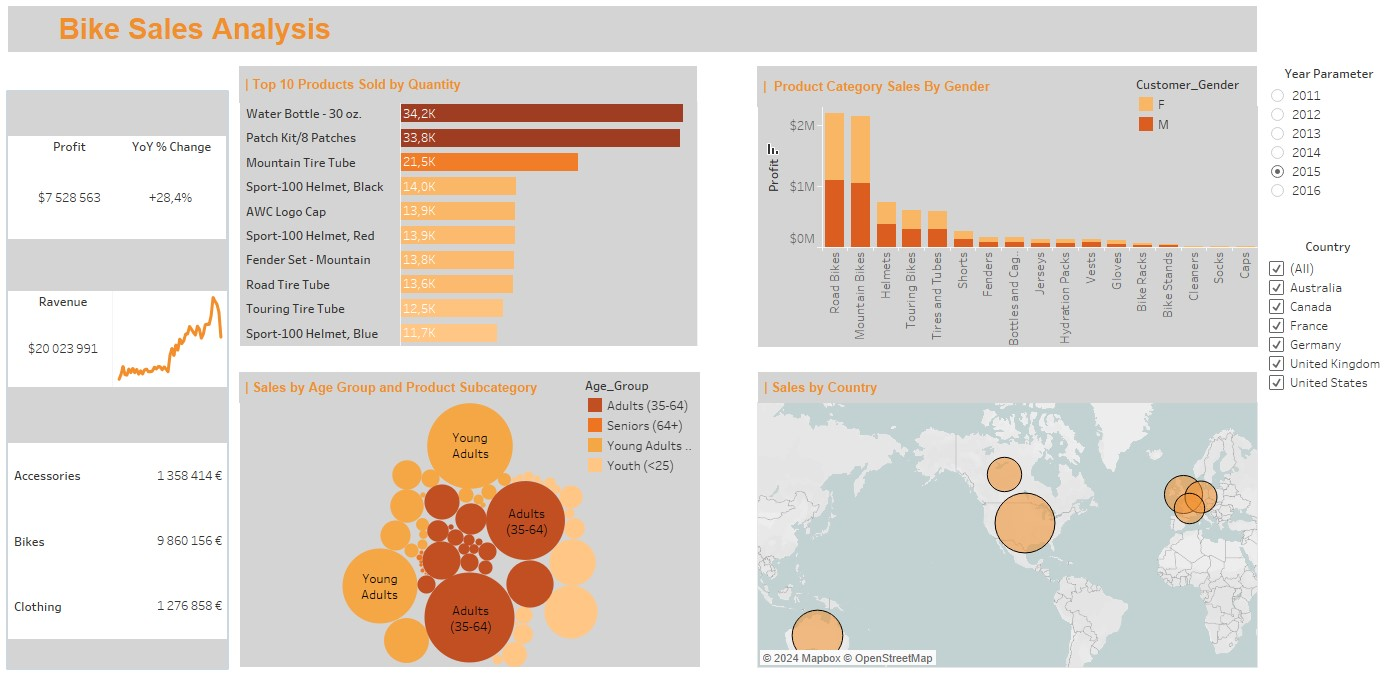

The dashboard page shown, as its layout file describes it:
{"tool":"tableau","page":{"name":"Sales Dashboard","canvas":[1400,750],"ordinal":0},"visuals":[{"type":"title","box":[8,8,1257,54]},{"type":"blank","box":[8,62,1257,680]},{"type":"parameter","param":"[Parameters].[Parameter 1]","box":[1269,71,128,137]},{"type":"text","box":[243,72,458,37]},{"type":"text","box":[761,72,500,41]},{"type":"legend","title":"Sub Category Bar chart","param":"[federated.0aqwxdi1nw8yje1g7g7n61i7v5s8].[none:Customer_Gender:nk]","box":[1140,82,112,63]},{"type":"worksheet","title":"Top 10 products","mark":"Bar","rows":["Product"],"box":[244.1,107.1,457.9,245.3]},{"type":"worksheet","title":"Sub Category Bar chart","mark":"Automatic","rows":["Profit"],"cols":["Sub_Category"],"box":[762,112,500,241]},{"type":"worksheet","title":"Profit Card","mark":"Automatic","cols":["Calculation_1117737185403191298"],"box":[11,142,125,103]},{"type":"worksheet","title":"YoY % change","mark":"Automatic","cols":["Calculation_1117737185411420168"],"box":[121,142,109,103]},{"type":"filter","title":"Age group bubble chart","param":"[federated.0aqwxdi1nw8yje1g7g7n61i7v5s8].[none:Country:nk]","box":[1267,244,130,156]},{"type":"worksheet","title":"Ravenue Card","mark":"Automatic","cols":["Calculation_1117737185413152777"],"box":[12,297,110,96]},{"type":"worksheet","title":"Ravenue line chart","mark":"Automatic","rows":["Revenue"],"cols":["Date"],"box":[116,297,115,96]},{"type":"text","box":[243.3,377.5,461.1,31.8]},{"type":"text","box":[762,378,499,31]},{"type":"legend","title":"Age group bubble chart","param":"[federated.0aqwxdi1nw8yje1g7g7n61i7v5s8].[none:Age_Group:nk]","box":[589,383,112,98]},{"type":"worksheet","title":"Age group bubble chart","mark":"Circle","box":[244.1,407.6,460.3,265.3]},{"type":"worksheet","title":"Map","mark":"Automatic","box":[761,408,501,266]},{"type":"worksheet","title":"Cost Cards","mark":"Automatic","rows":["Product_Category"],"box":[12,449,219,196]}]}

Visuals, with their boxes on the page's 1400x750 design canvas (x1, y1, x2, y2). These are canvas units, not pixel positions in the 1388x675 screenshot, which may show the page scaled, cropped or inside an application window:
title: Rect(8, 8, 1265, 62)
blank: Rect(8, 62, 1265, 742)
parameter: Rect(1269, 71, 1397, 208)
text: Rect(243, 72, 701, 109)
text: Rect(761, 72, 1261, 113)
"Sub Category Bar chart" legend: Rect(1140, 82, 1252, 145)
"Top 10 products" worksheet (Bar marks): Rect(244, 107, 702, 352)
"Sub Category Bar chart" worksheet: Rect(762, 112, 1262, 353)
"Profit Card" worksheet: Rect(11, 142, 136, 245)
"YoY % change" worksheet: Rect(121, 142, 230, 245)
"Age group bubble chart" filter: Rect(1267, 244, 1397, 400)
"Ravenue Card" worksheet: Rect(12, 297, 122, 393)
"Ravenue line chart" worksheet: Rect(116, 297, 231, 393)
text: Rect(243, 378, 704, 409)
text: Rect(762, 378, 1261, 409)
"Age group bubble chart" legend: Rect(589, 383, 701, 481)
"Age group bubble chart" worksheet (Circle marks): Rect(244, 408, 704, 673)
"Map" worksheet: Rect(761, 408, 1262, 674)
"Cost Cards" worksheet: Rect(12, 449, 231, 645)
